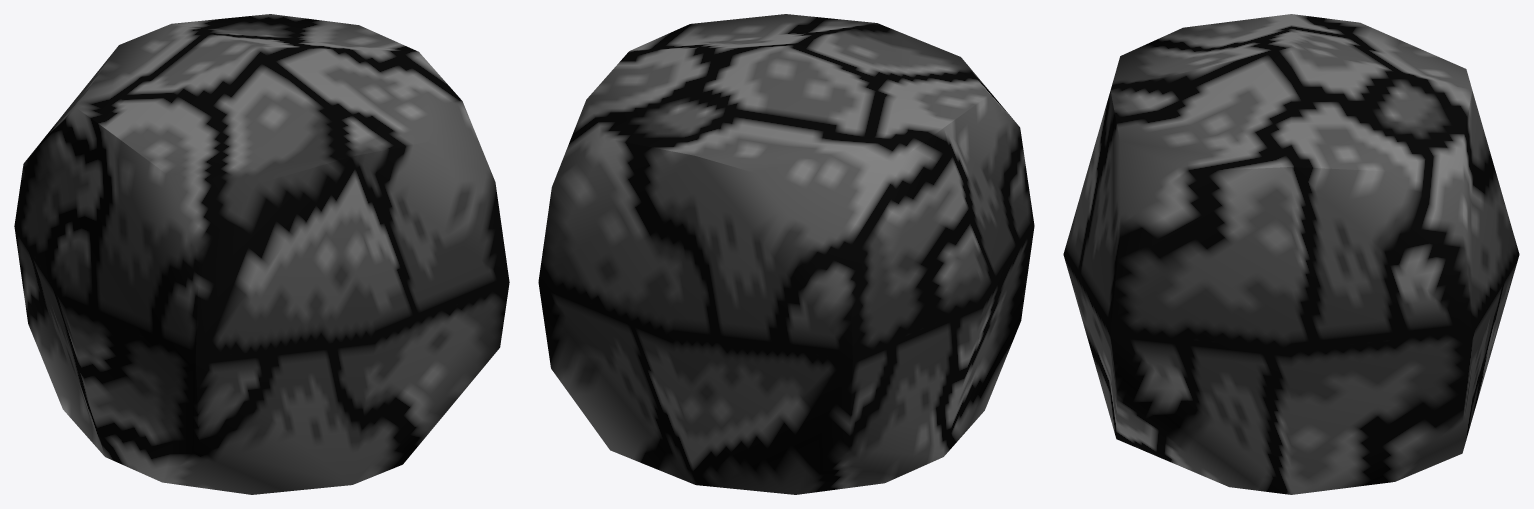
The model's file is deco_boulder_round.FBX.
3 renders of one model, left to right at view 1: azimuth 30°, elevation 25°; view 2: azimuth 150°, elevation 25°; view 3: azimuth 270°, elevation 25°, orthographic.
Parts seen in each view (by area): view 1: deco_boulder_round; view 2: deco_boulder_round; view 3: deco_boulder_round.
Boxes of the visible parts, left/top/right/bottom form: deco_boulder_round: left=14, top=14, right=509, bottom=494; deco_boulder_round: left=538, top=14, right=1034, bottom=494; deco_boulder_round: left=1063, top=14, right=1519, bottom=494.
Bounding box in the file's own units: 2.07 × 2.07 × 2.07.
1 material, 1 textured.
